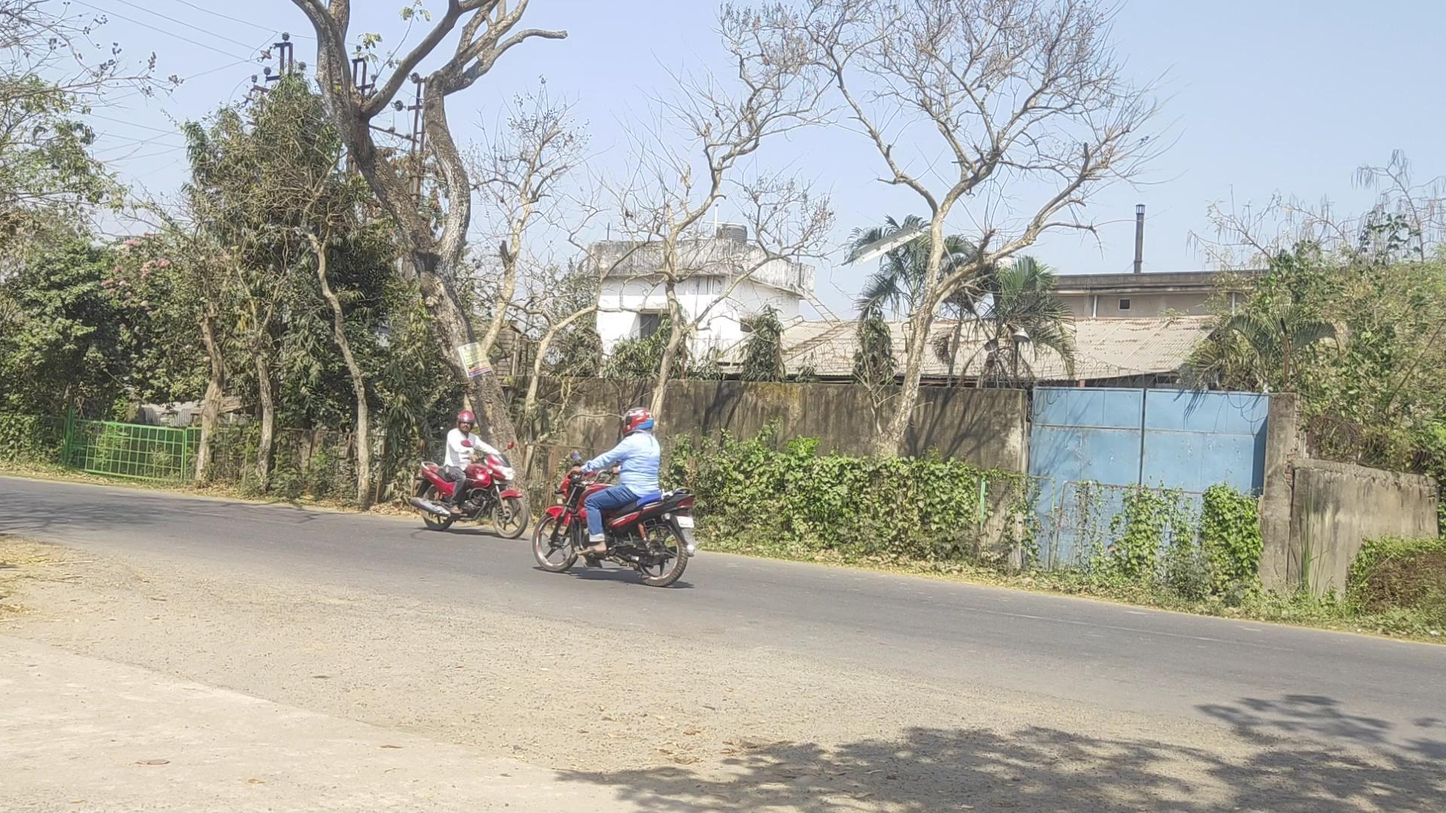bike: (532, 406, 697, 586), (410, 410, 529, 539)
